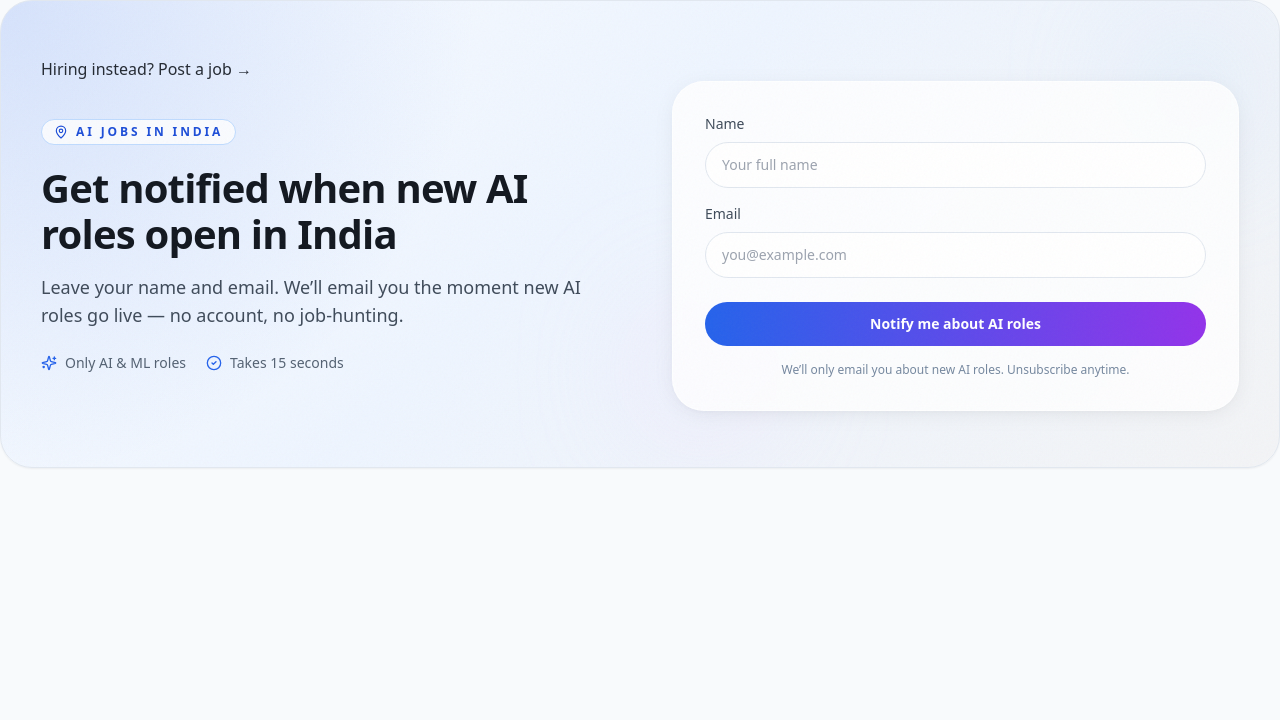
Test: CandidateSignupHero › does not submit when the name is missing
In the field labelled "Email": (956, 255) 705,232 -> 1206,278, type "ravi@example.com"
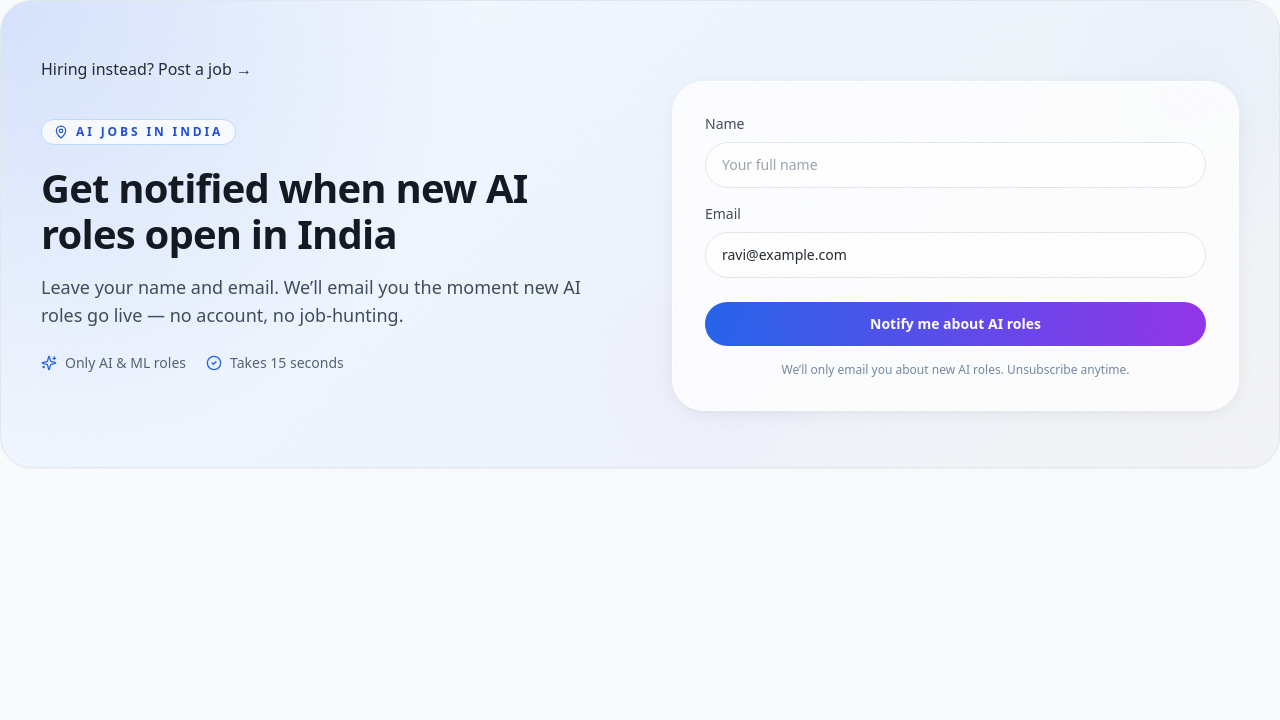
Click the button "Notify me about AI roles": click(956, 324) 705,302 -> 1206,346
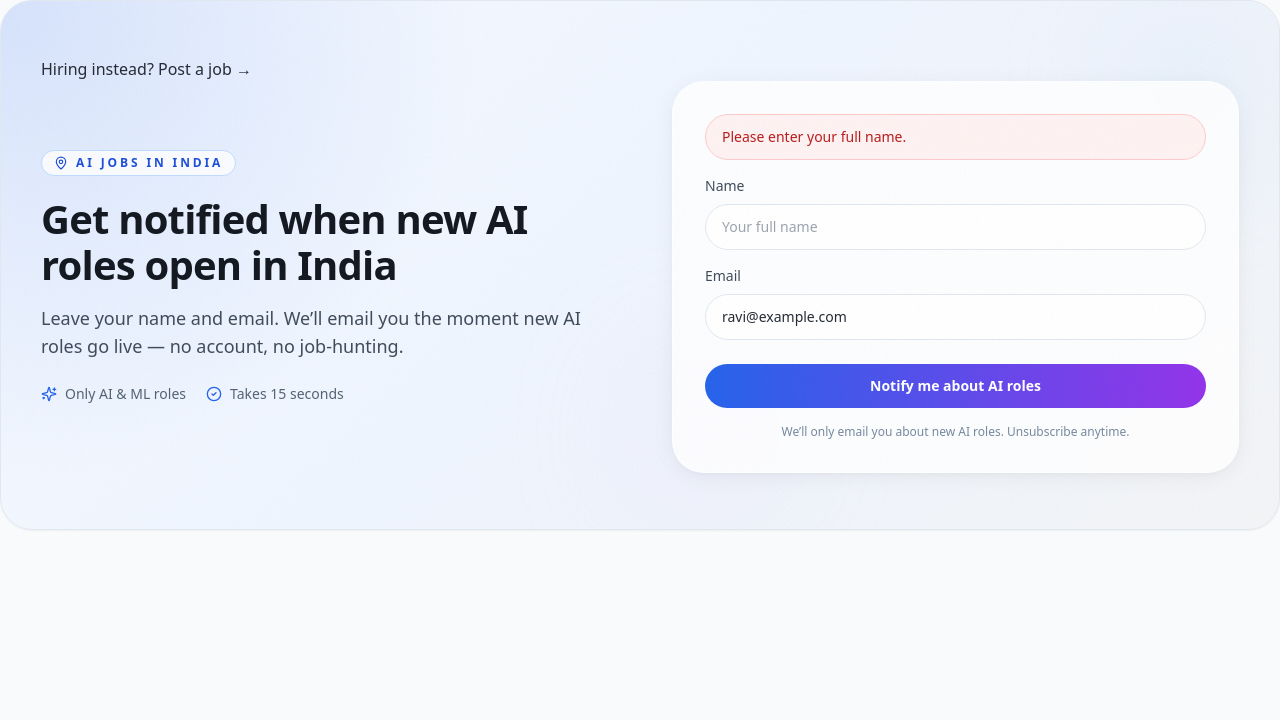
Check: the text "Please enter your full name." is shown, box 705,114 -> 1206,160
